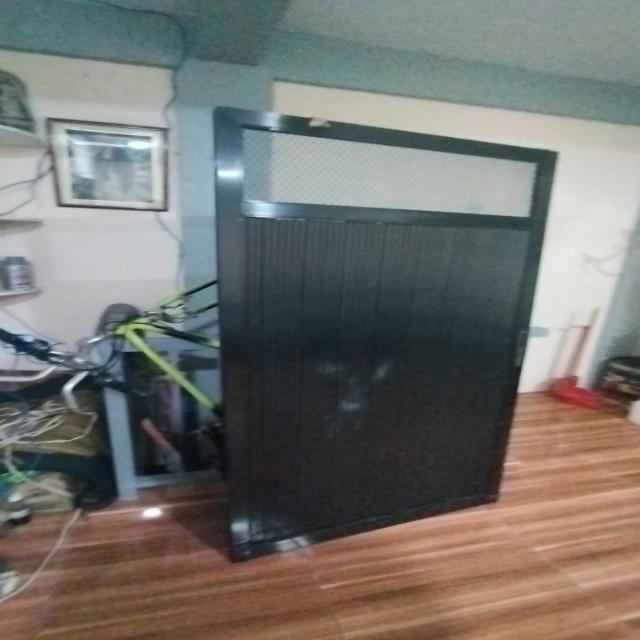door: (205, 102, 560, 558)
